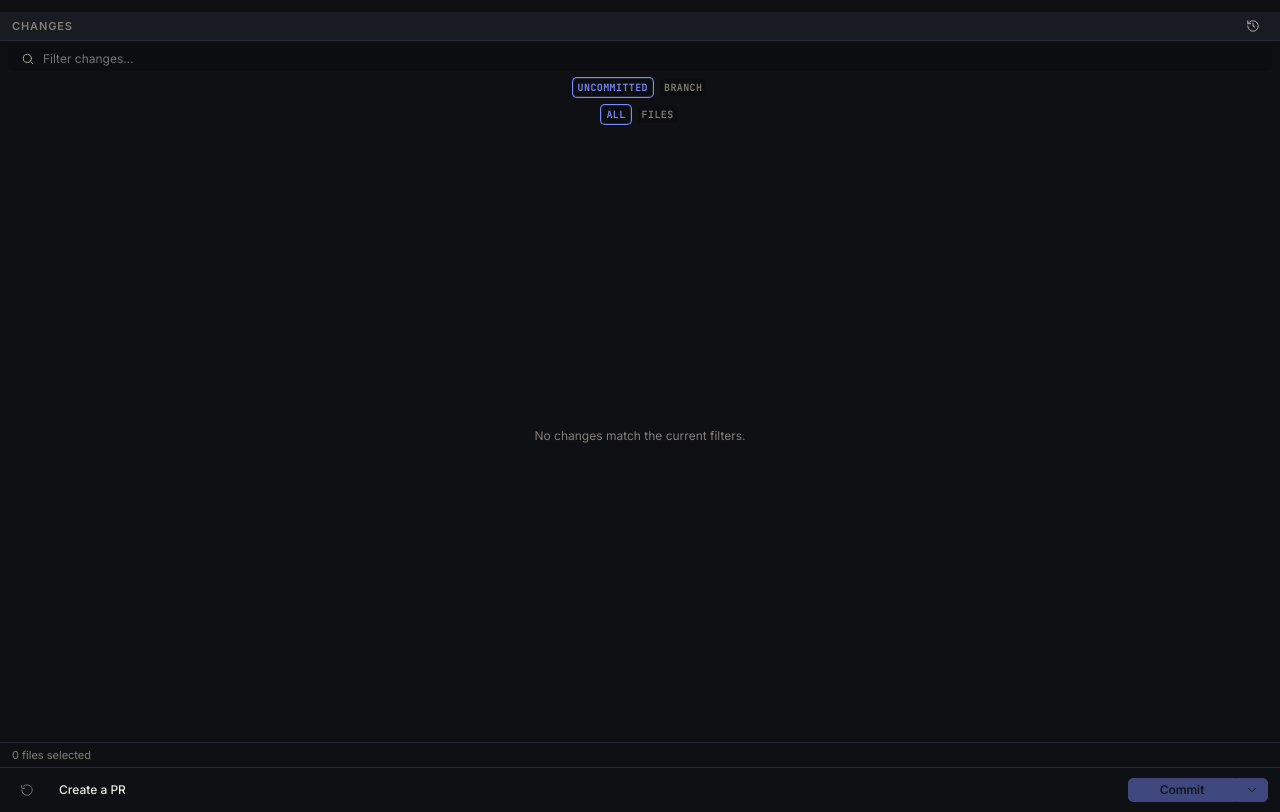
Test: folder and group counts (CHG-FR-50..FR-53) › states what a tick on that node takes (CHG-FR-50, CHG-FR-51, CHG-FR-26 / CHG-FR-28)
The width and height of the screenshot is (1280, 812).
Click the radio button labelled "Files" at (658, 114), box [636,104,680,125]
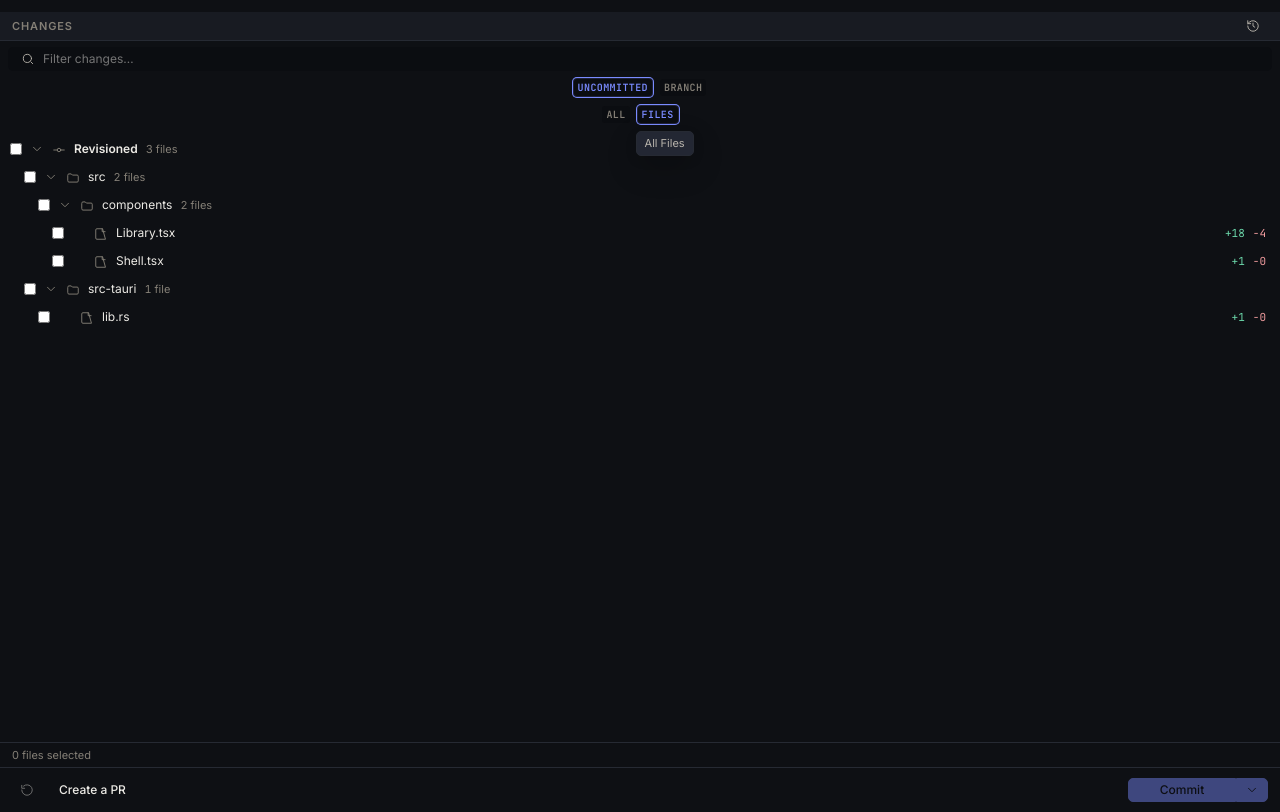
Expected: the text "Library.tsx" is shown, [116,225,175,240]
Expected: the 1st text "2 files" is shown, [114,169,145,185]
Click the checkbox named "Include src/components" at (44, 205), box [38,199,50,211]
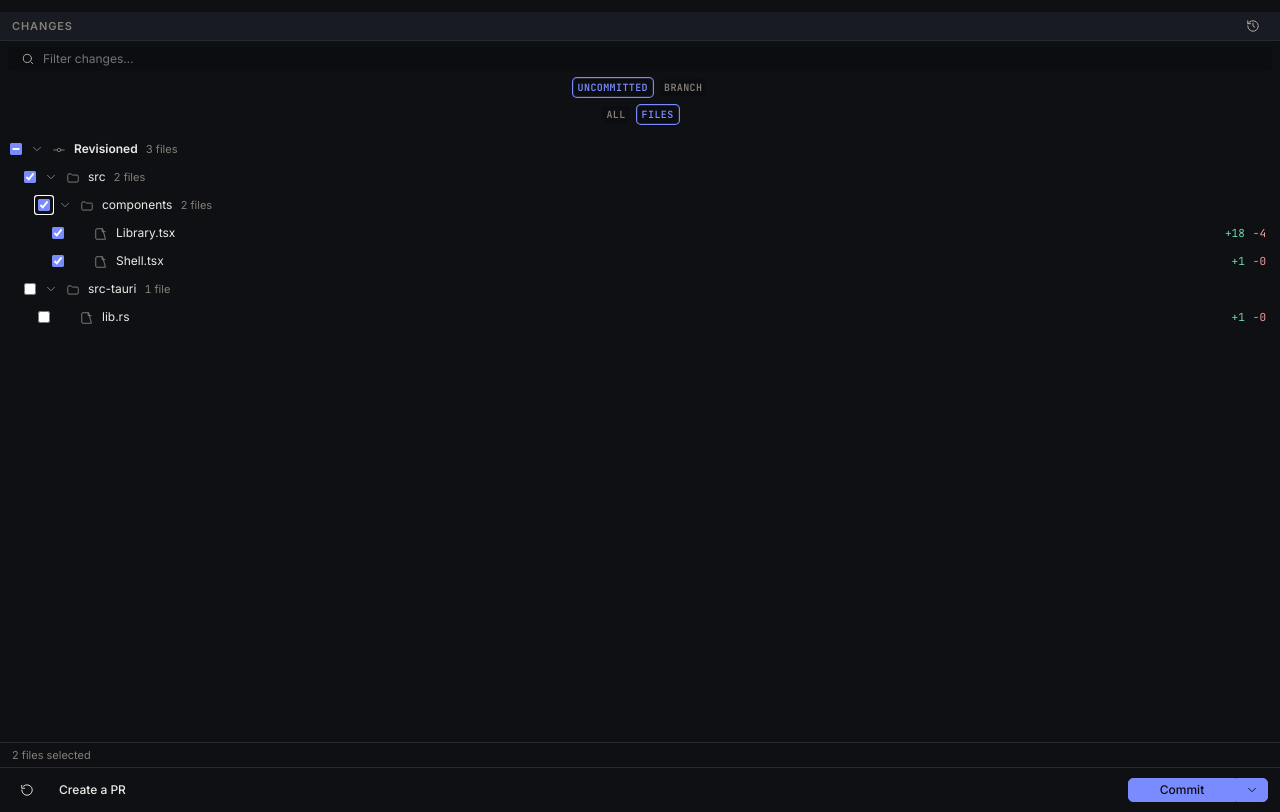
Expected: the text "2 files selected" is shown, [0,742,1279,767]
Click the checkbox named "Include src/components/Library.tsx" at (58, 233), box [52,227,64,239]
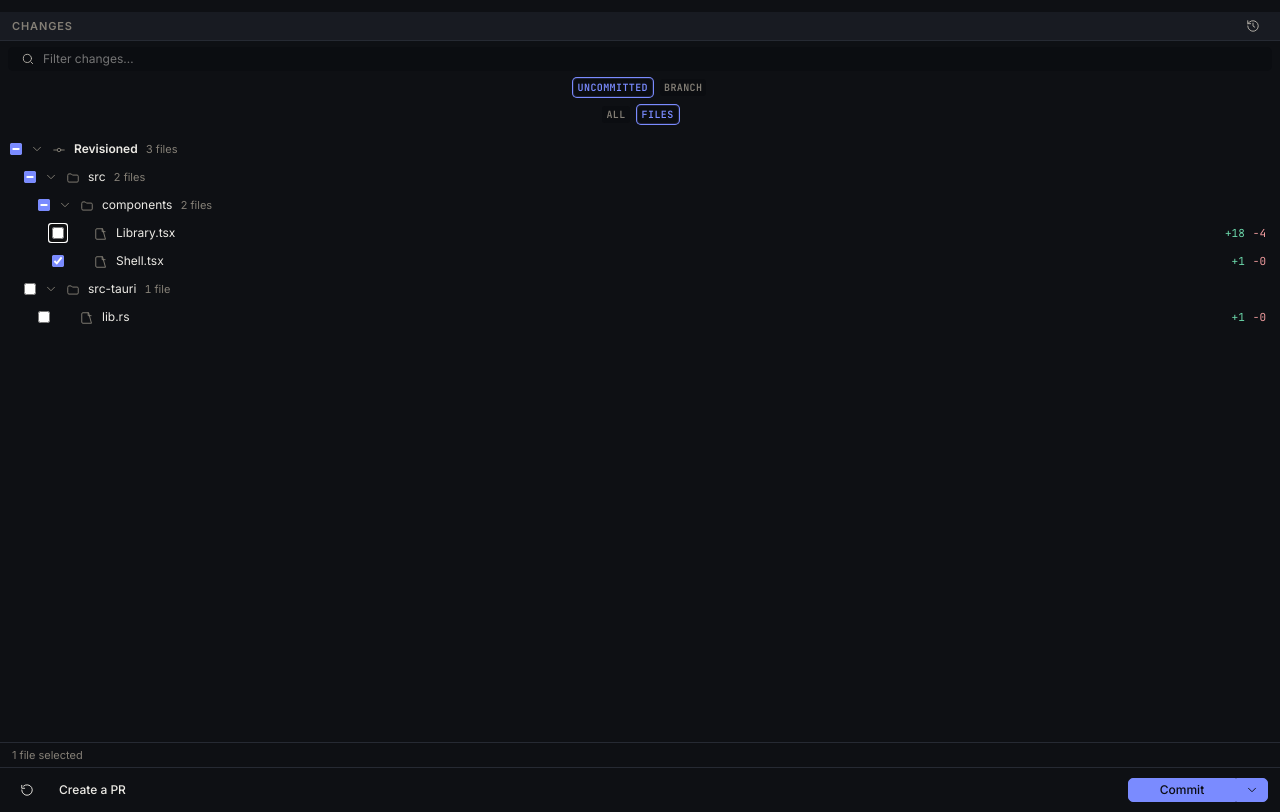
Expected: the 1st text "2 files" is shown, [114,169,145,185]
Expected: the text "1 file selected" is shown, [0,742,1279,767]
